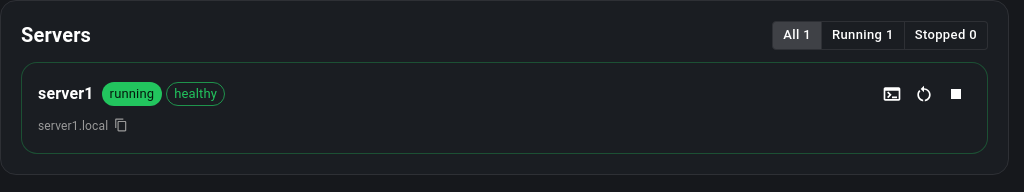
Test case: ServerOverview › status filter › shows an empty message when the filter matches nothing
Click the button "Stopped 0" at (946, 35), box top-left (904, 21), bottom-right (988, 50)
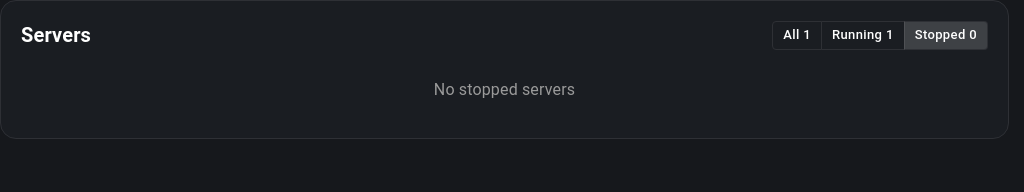
expect the text "No stopped servers" is shown: met, box top-left (434, 80), bottom-right (575, 99)
